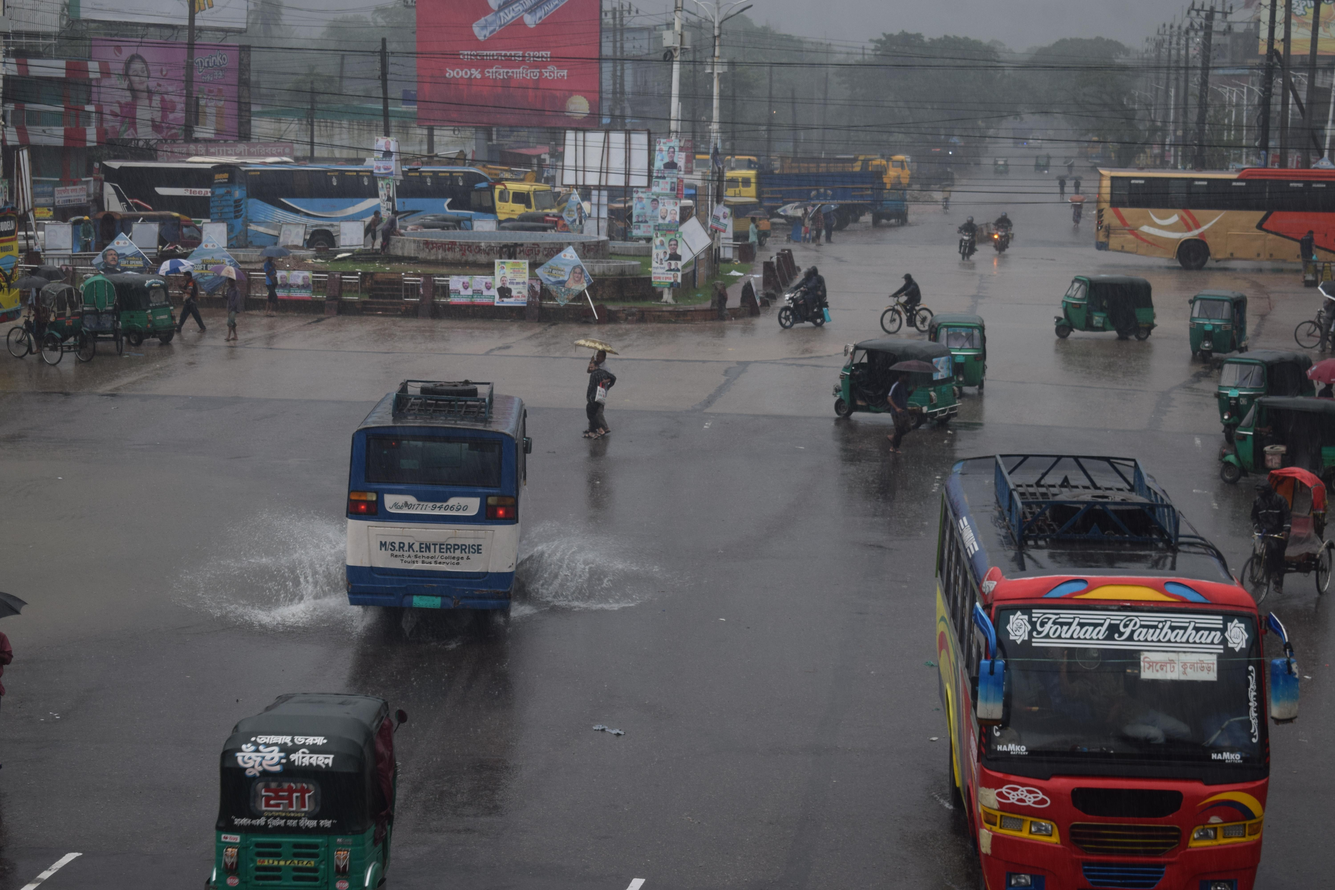Bike: (861, 255, 949, 355), (759, 245, 843, 341), (943, 204, 979, 279), (986, 204, 1029, 261)
Bus: (890, 402, 1320, 890), (291, 349, 546, 655), (188, 143, 510, 313), (1056, 129, 1335, 289), (61, 122, 305, 292)
Car: (1232, 460, 1335, 619)
Truck: (695, 138, 891, 236), (476, 145, 576, 243)
